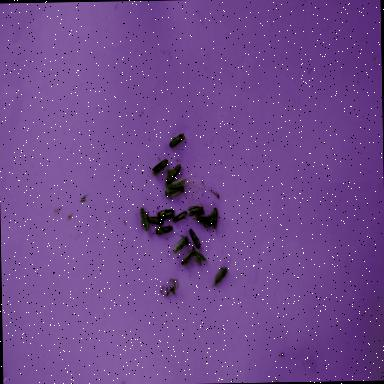pbw: (172, 232, 189, 255), (164, 164, 182, 184), (210, 266, 228, 286), (150, 157, 168, 176), (168, 176, 192, 188), (172, 208, 190, 224), (188, 200, 204, 216), (169, 132, 185, 148), (154, 224, 173, 237), (156, 208, 176, 220), (190, 228, 202, 248), (140, 206, 149, 231), (180, 249, 194, 265), (164, 186, 186, 196), (147, 216, 164, 225), (213, 207, 218, 236), (194, 250, 206, 262), (191, 215, 210, 222), (193, 255, 201, 266), (209, 211, 214, 227)
